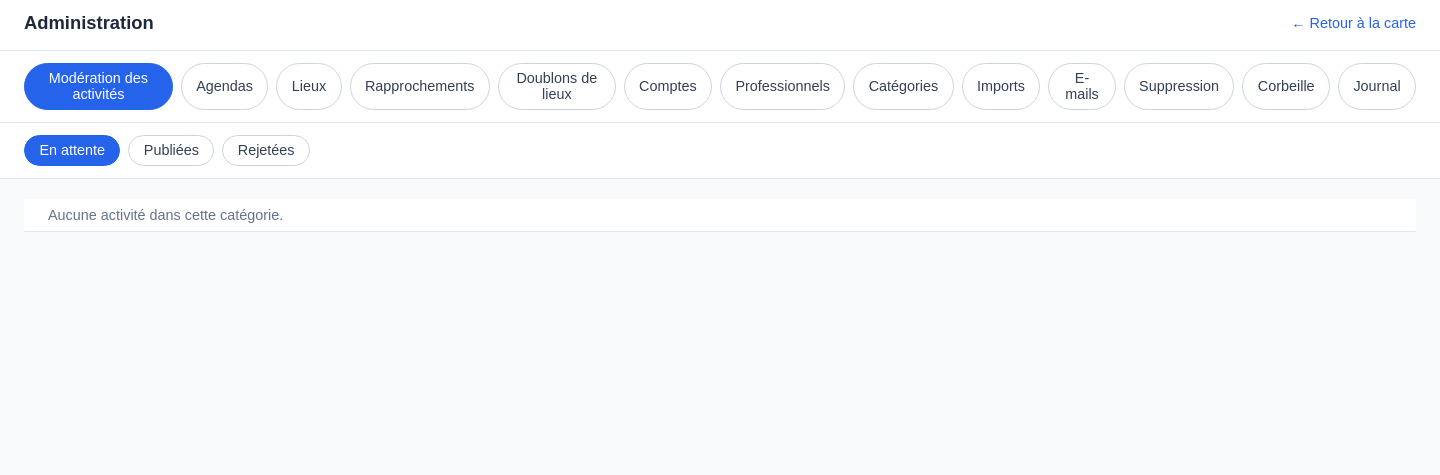
AdminPage — activation vérifiée d'une source DATATOURISME › affiche le refus et ne présente pas la source comme active
Click the button "Agendas" at (225, 86), box x1=181 y1=63 x2=268 y2=110
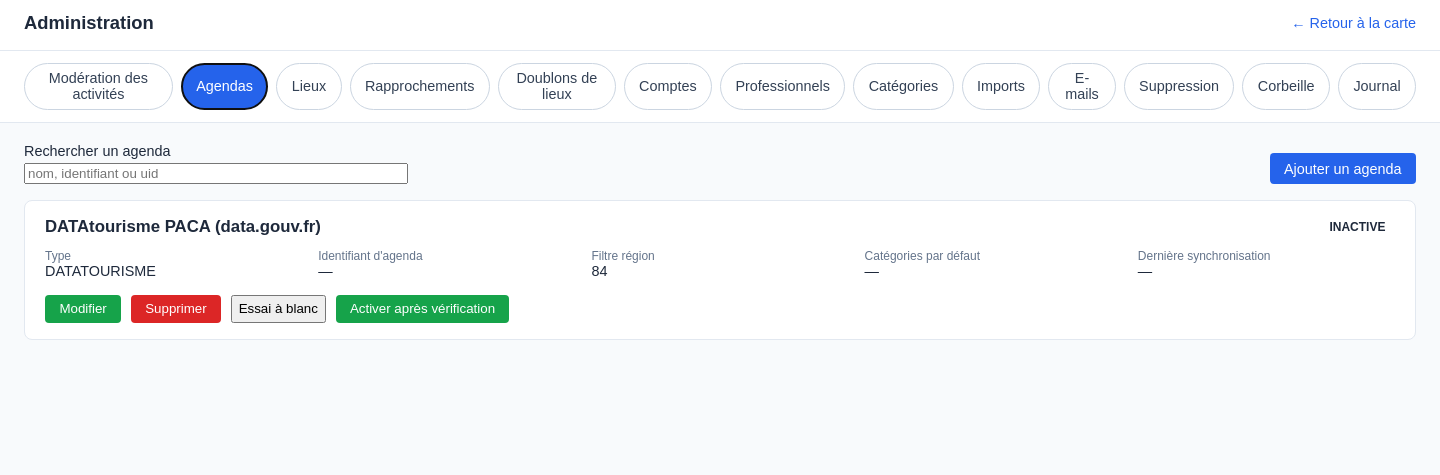
Click the button "Activer après vérification" at (422, 309), box x1=336 y1=295 x2=510 y2=323
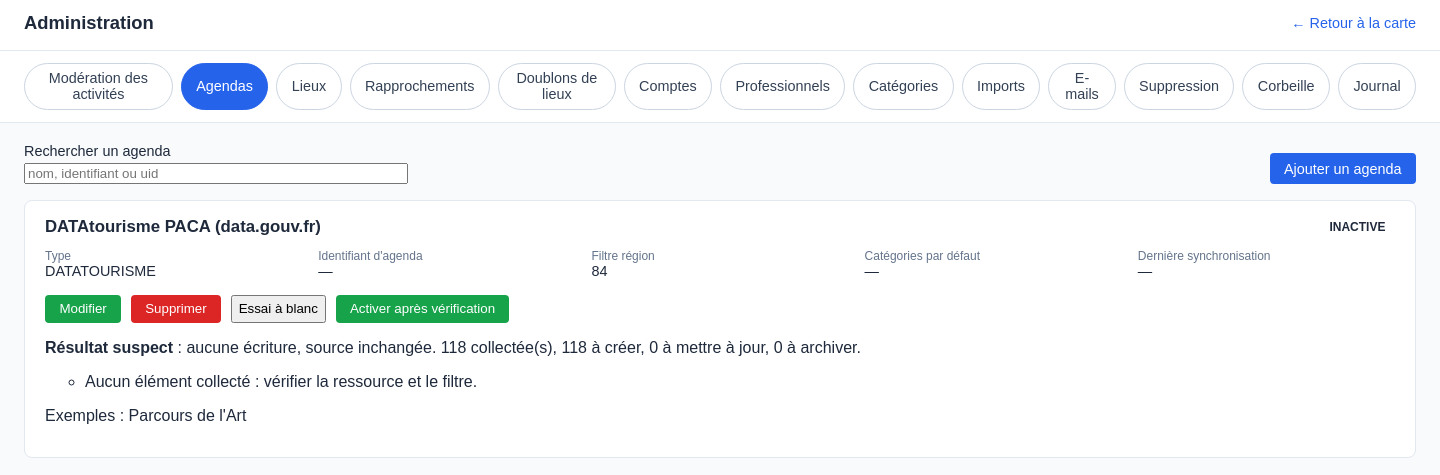
expect the text "Résultat suspect" is shown: met, box x1=45 y1=339 x2=173 y2=356
expect the text "aucune écriture, source inchangée" is shown: met, box x1=173 y1=339 x2=436 y2=356
expect the list item "Aucun élément collecté : vérifier la ressource et le filtre." is shown: met, box x1=85 y1=373 x2=477 y2=390
